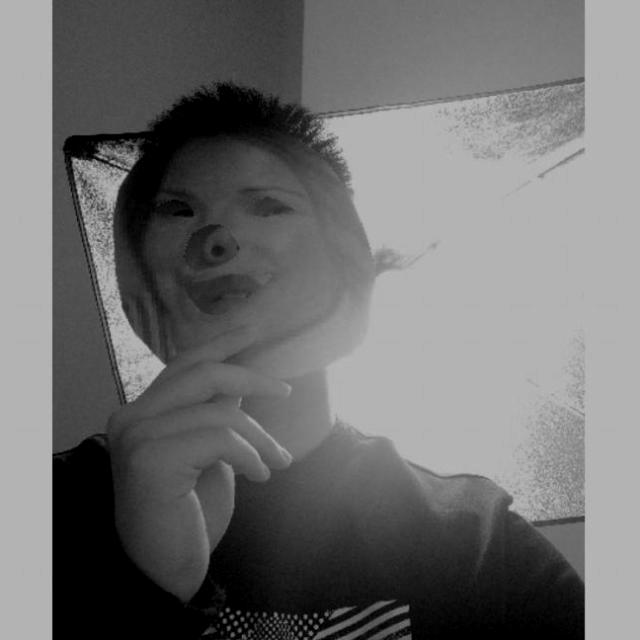fake: (112, 120, 375, 374)
